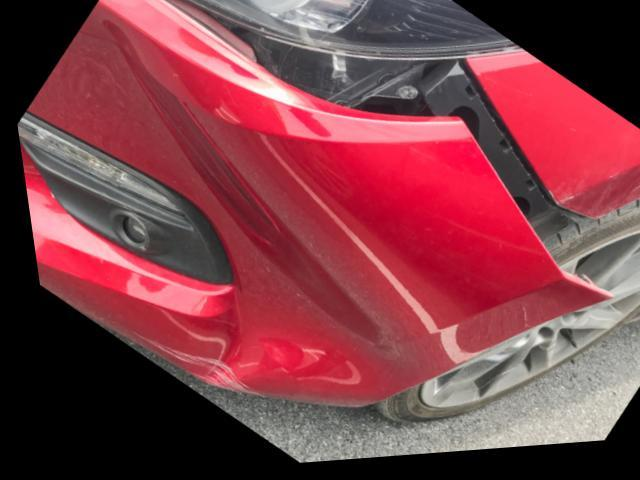dent: (113, 42, 367, 386)
dislocated part: (14, 0, 599, 414)
